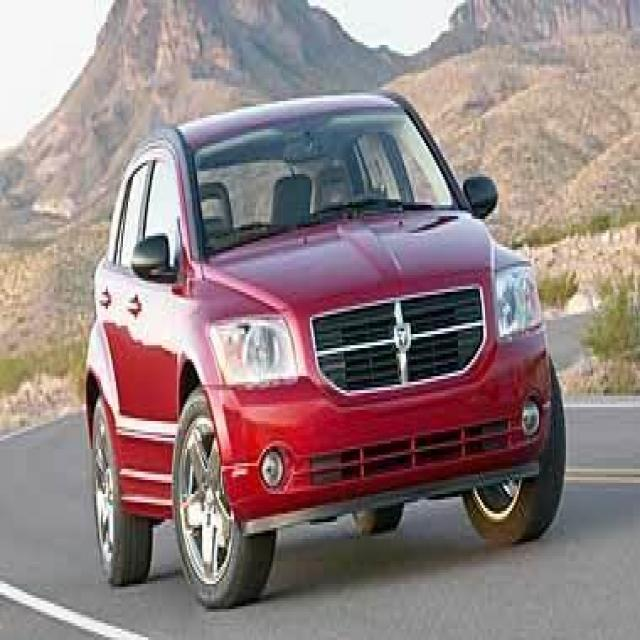Car: (67, 32, 586, 574)
